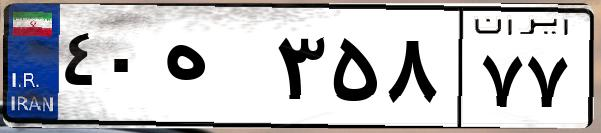0: (110, 28, 158, 98)
3: (270, 28, 330, 110)
4: (57, 26, 110, 100)
5: (330, 28, 385, 110)
7: (475, 38, 525, 113), (525, 38, 570, 115)
8: (385, 28, 445, 110)
ه: (158, 20, 270, 120)
